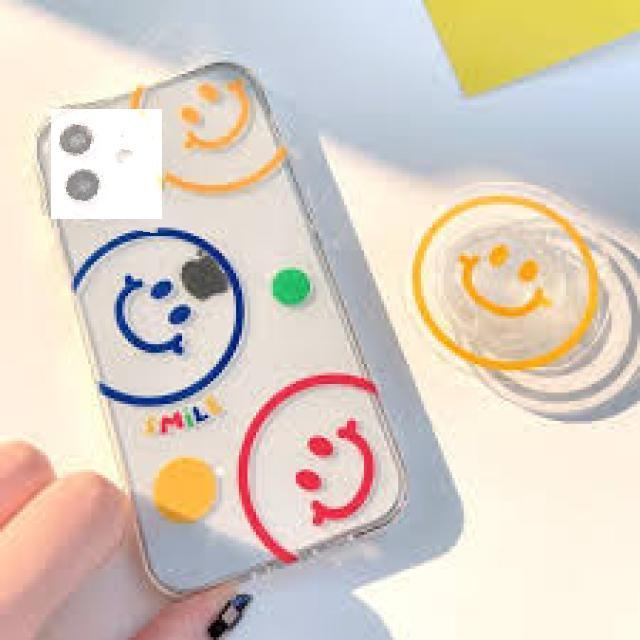phone: (32, 61, 416, 596)
